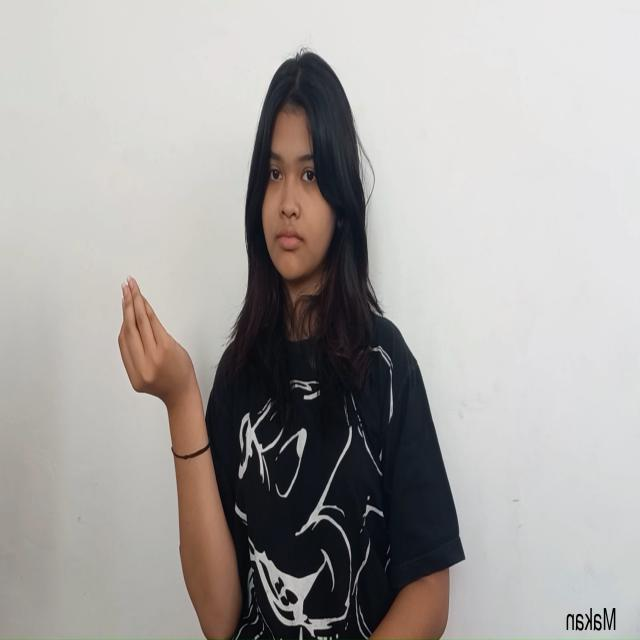Makan -BISINDO-: (117, 276, 201, 431)
